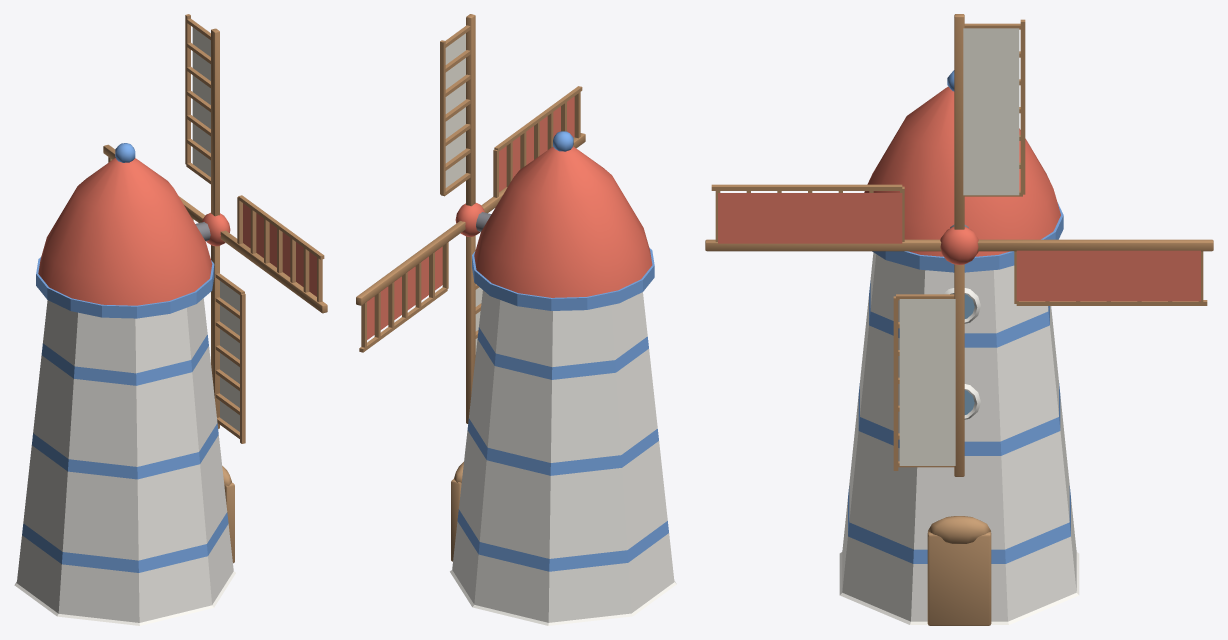
The model's file is windmill_toy.glb.
3 views of the same model, side by side, from view 1: azimuth 30°, elevation 25°; view 2: azimuth 150°, elevation 25°; view 3: azimuth 270°, elevation 25° (orthographic). The views are drawn at different scales.
Parts seen in each view (by area): view 1: windmill_toy, sails; view 2: windmill_toy, sails; view 3: windmill_toy, sails.
Boxes of the visible parts, x1,y1,x2,y2 form: windmill_toy: (14, 143, 235, 625); sails: (103, 14, 327, 443); windmill_toy: (450, 131, 676, 625); sails: (356, 14, 585, 423); windmill_toy: (839, 70, 1079, 625); sails: (705, 14, 1213, 476).
Bounding box in the file's own units: 2.02 × 5.3 × 4.
